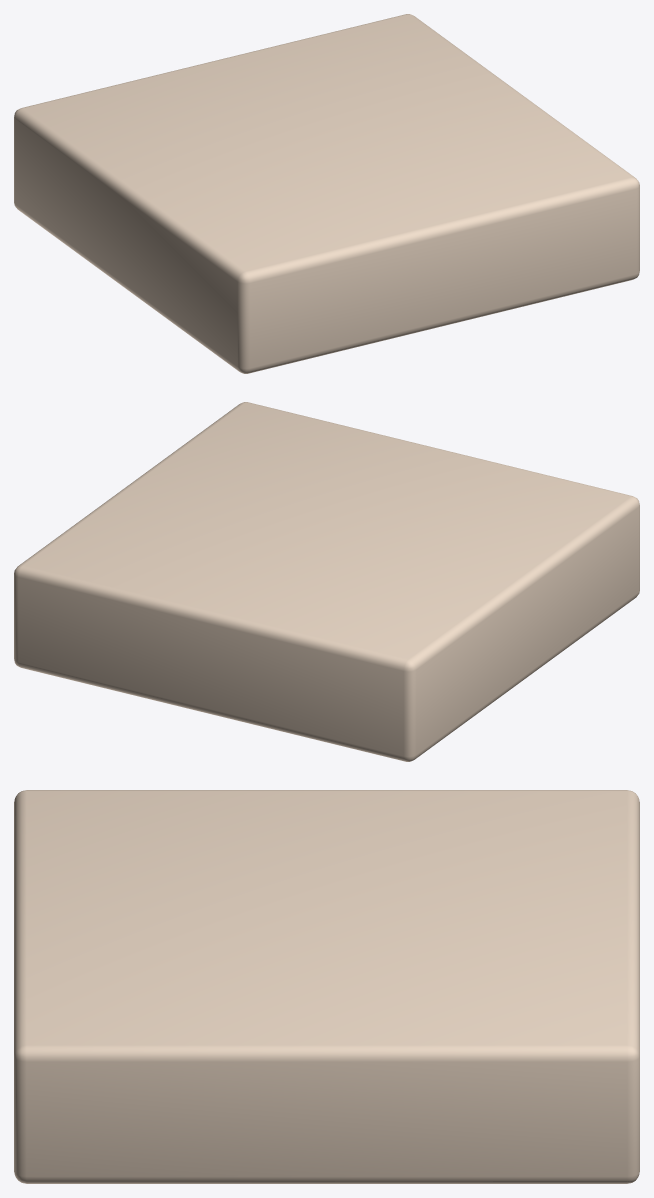
File: block_White_bigger_GEO.fbx
3 renders of one model, top to bottom at view 1: azimuth 30°, elevation 25°; view 2: azimuth 150°, elevation 25°; view 3: azimuth 270°, elevation 25°, orthographic. The views are drawn at different scales.
Parts seen in each view (by area): view 1: block_White_GEO; view 2: block_White_GEO; view 3: block_White_GEO.
Part boxes in pixels (x1,y1,x2,y2): block_White_GEO: [14, 14, 639, 373]; block_White_GEO: [14, 402, 639, 761]; block_White_GEO: [14, 790, 639, 1183].
Size of the model in its own units: 124 by 30.06 by 124.
